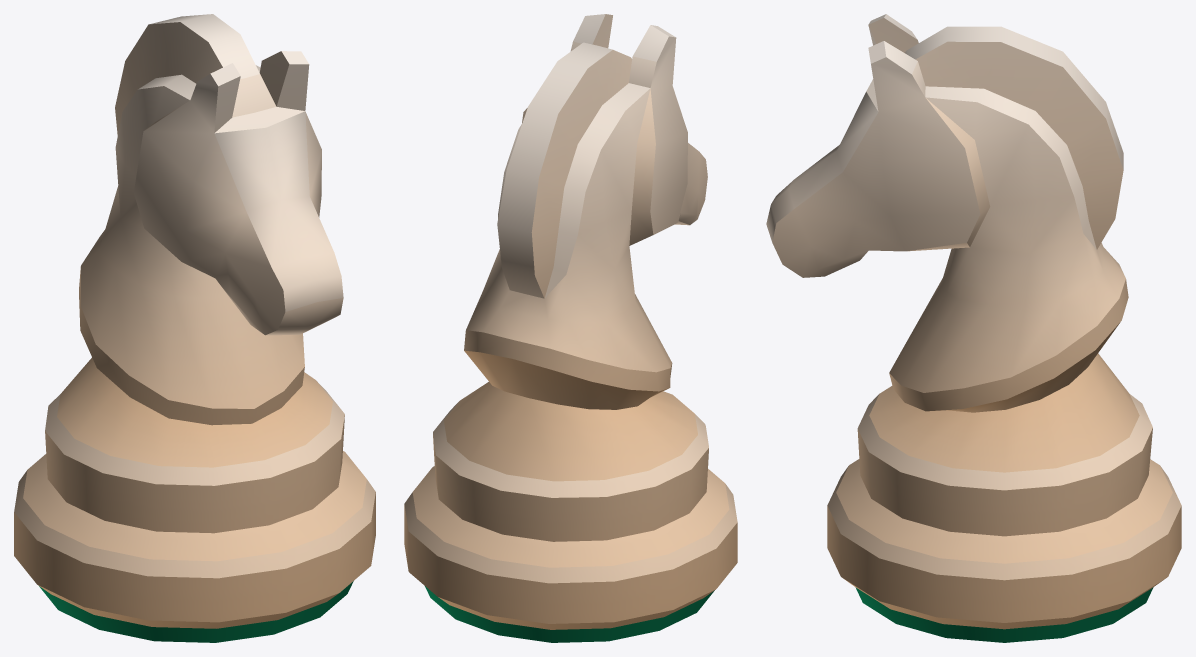
The model's file is chess_white_knight.gltf.
3 views of the same model, side by side, from view 1: azimuth 30°, elevation 25°; view 2: azimuth 150°, elevation 25°; view 3: azimuth 270°, elevation 25° (orthographic). The views are drawn at different scales.
Visible parts, largest first — view 1: chess_white_knight; view 2: chess_white_knight; view 3: chess_white_knight.
Boxes of the visible parts, box(x1,y1,x2,y2) form: chess_white_knight: box(14, 14, 375, 642); chess_white_knight: box(404, 14, 737, 642); chess_white_knight: box(766, 14, 1181, 642).
Bounding box in the file's own units: 0.75 × 1.28 × 0.8793.
1 material, 1 textured.
